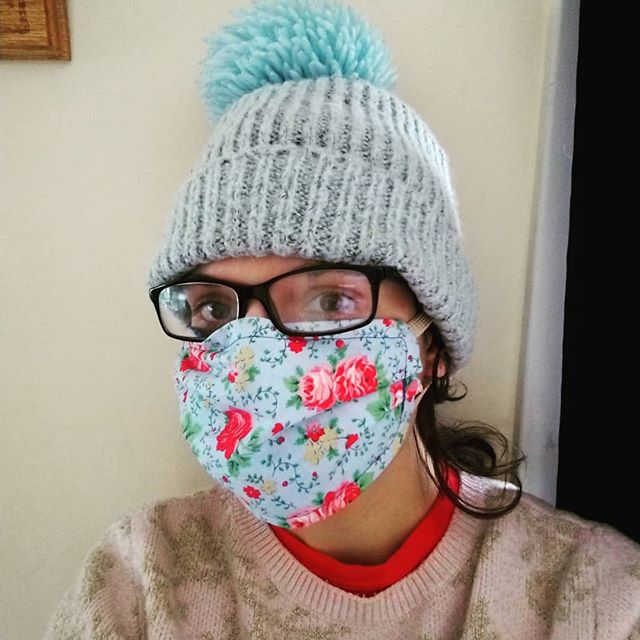homemade: (162, 325, 429, 531)
